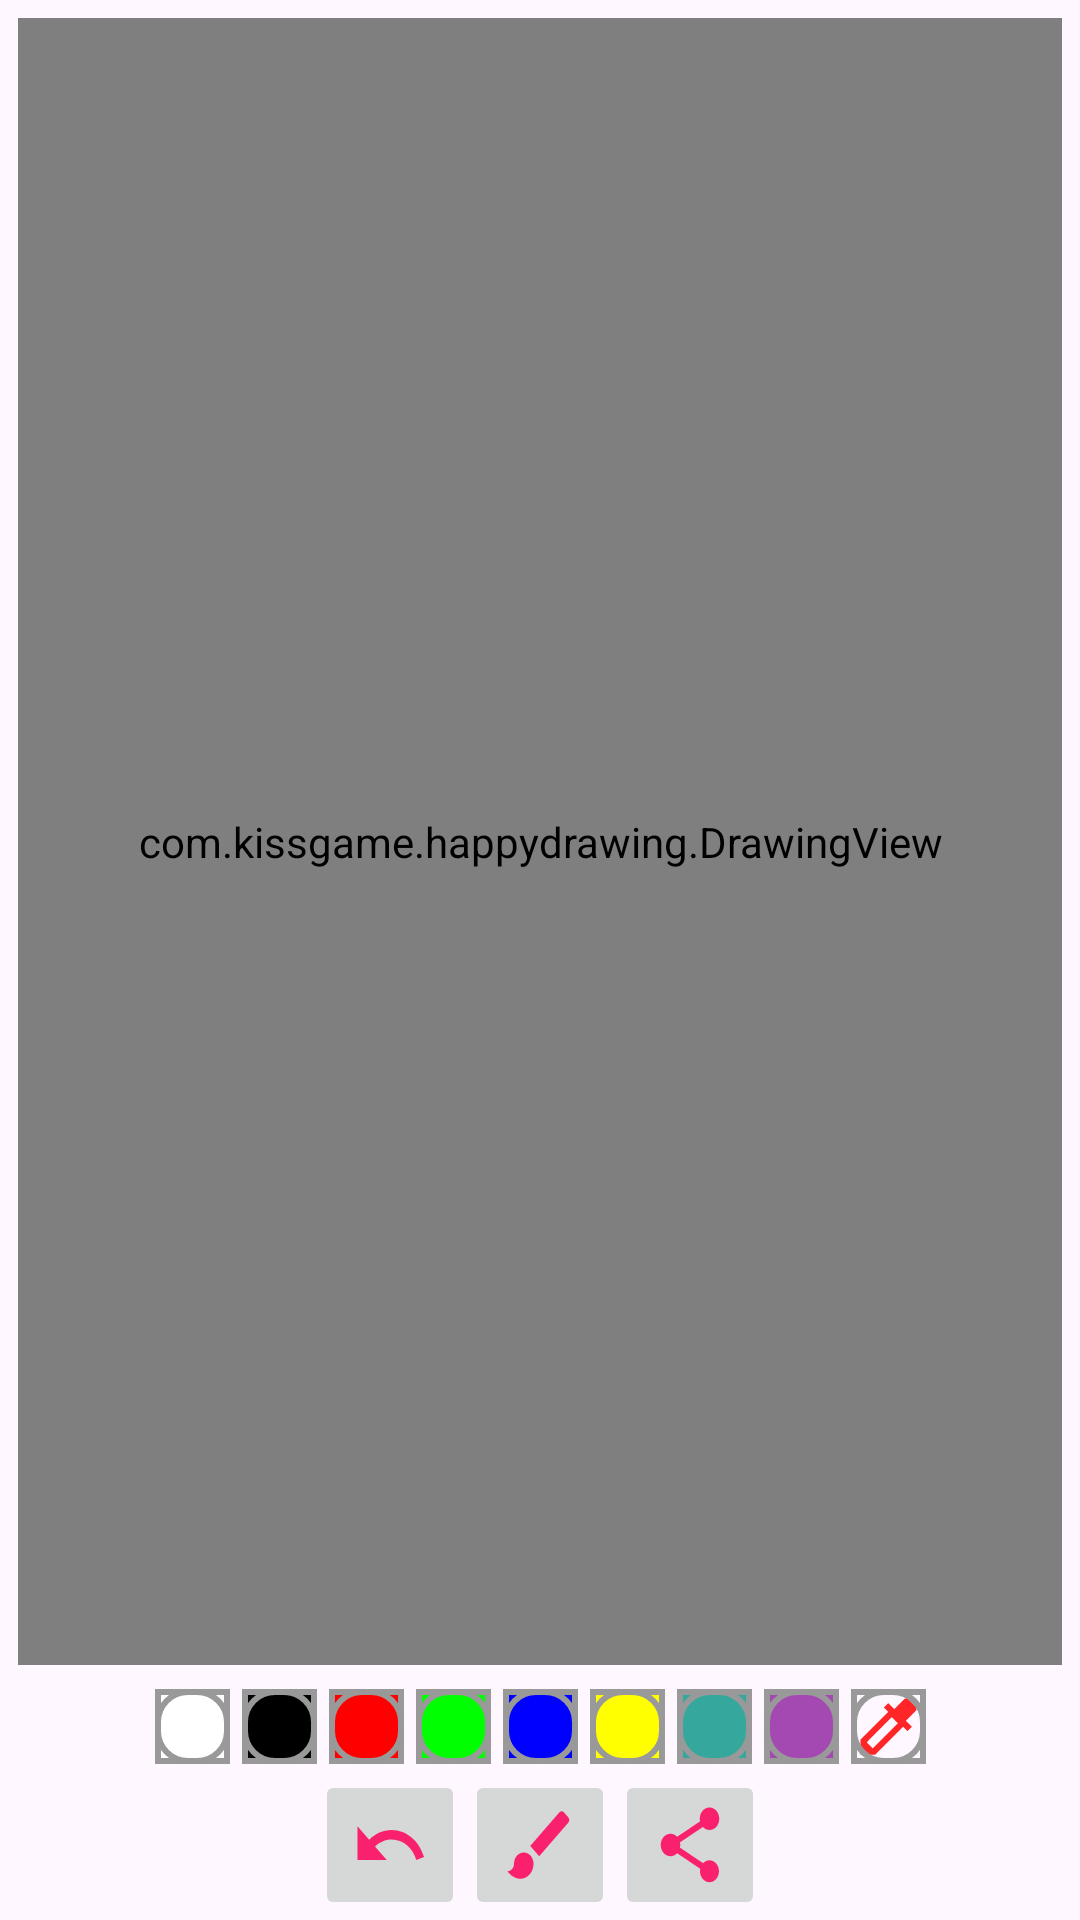

Named icons in this screenshot (1080×1920) and their bounding boxes, rect(x1, y1, x2, y2):
brush: rect(477, 1788, 603, 1902)
share: rect(627, 1788, 753, 1902)
undo: rect(327, 1788, 453, 1902)
